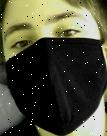with_mask: (2, 1, 107, 136)
